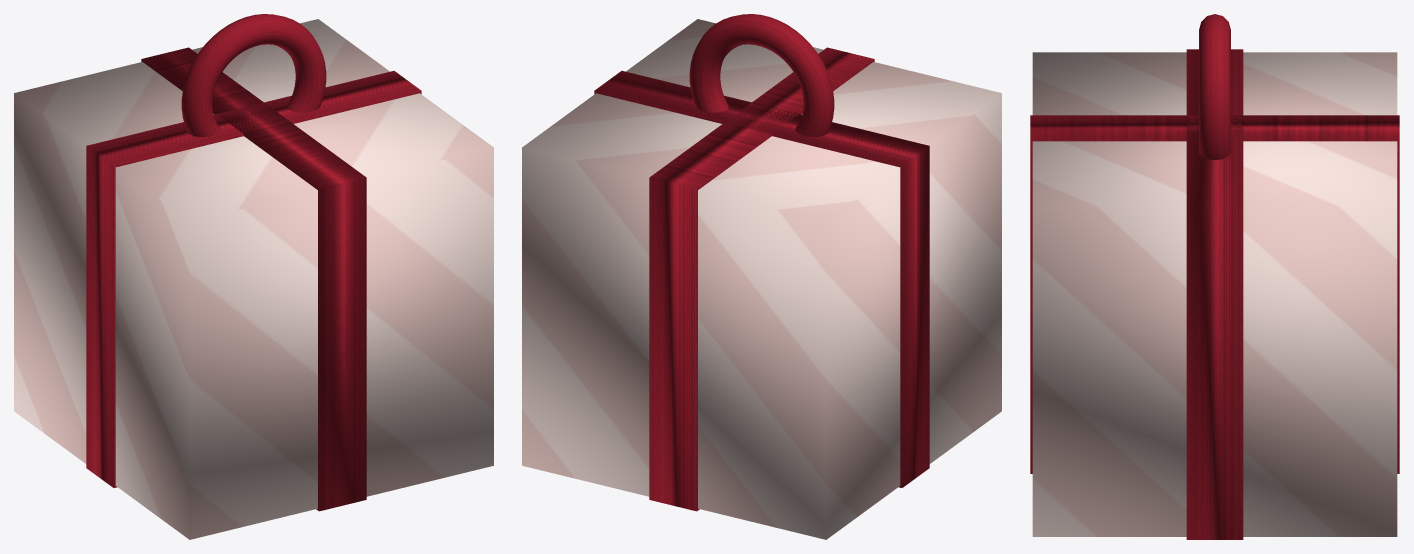
The model's file is gift-box.glb.
The picture shows the model from 3 angles, left to right: view 1: azimuth 30°, elevation 25°; view 2: azimuth 150°, elevation 25°; view 3: azimuth 270°, elevation 25°; orthographic projection. The views are drawn at different scales.
Parts seen in each view (by area): view 1: Cube, Cube.002, Cube.001, Torus.023, Torus.022; view 2: Cube, Cube.002, Cube.001, Torus.023, Torus.022; view 3: Cube, Cube.001, Cube.002, Torus.022, Torus.023.
Boxes of the visible parts, left/top/right/bottom form: Cube: left=14, top=19, right=493, bottom=539; Cube.002: left=141, top=47, right=366, bottom=511; Cube.001: left=86, top=71, right=421, bottom=487; Torus.023: left=181, top=14, right=326, bottom=136; Torus.022: left=181, top=14, right=326, bottom=137; Cube: left=522, top=19, right=1001, bottom=539; Cube.002: left=649, top=47, right=874, bottom=511; Cube.001: left=594, top=71, right=929, bottom=487; Torus.023: left=689, top=14, right=834, bottom=136; Torus.022: left=689, top=14, right=834, bottom=137; Cube: left=1032, top=52, right=1397, bottom=536; Cube.001: left=1186, top=49, right=1243, bottom=539; Cube.002: left=1030, top=115, right=1399, bottom=473; Torus.022: left=1199, top=14, right=1230, bottom=159; Torus.023: left=1199, top=14, right=1230, bottom=159.
Bounding box in the file's own units: 1.62 × 2.13 × 1.62.
Materials: 2 (2 with a texture image).
